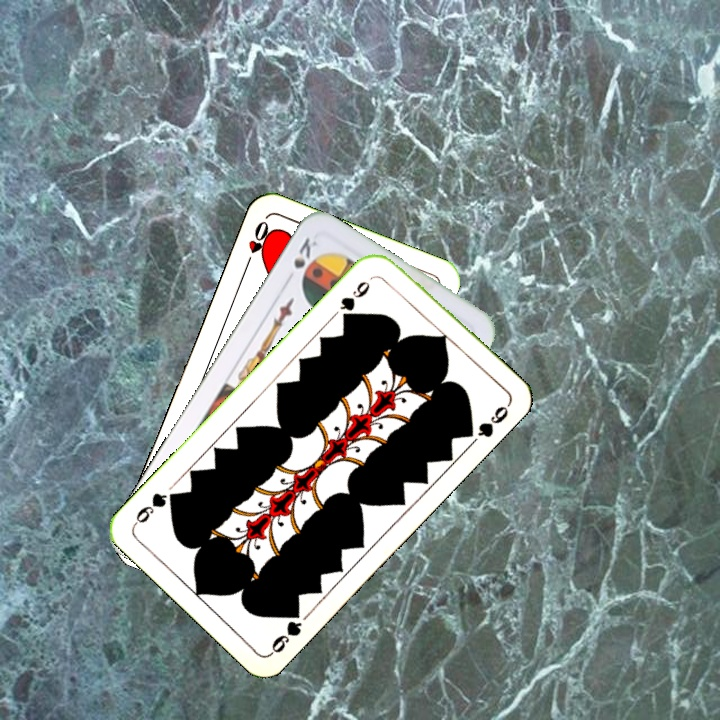G9: (266, 603, 305, 657), (335, 276, 373, 323)
HO: (240, 216, 273, 272)
SK: (289, 233, 320, 272)
